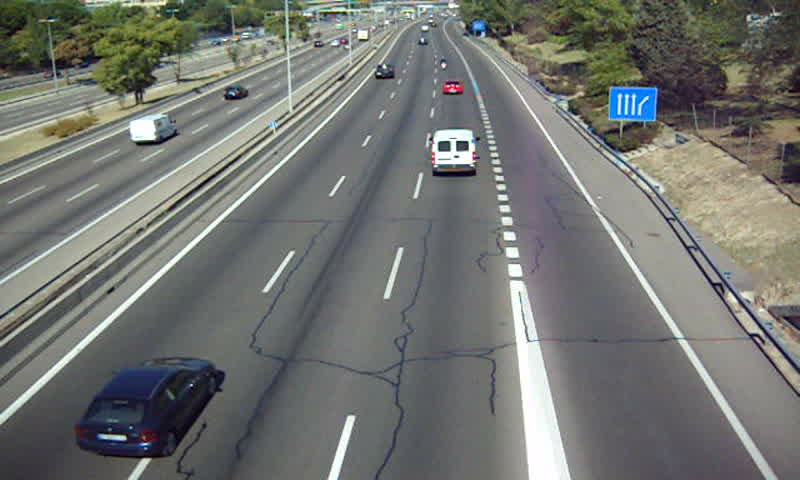car: (75, 358, 212, 454), (443, 78, 465, 96), (374, 63, 395, 80)
motorcycle: (437, 58, 450, 69)
van: (432, 129, 477, 173)
